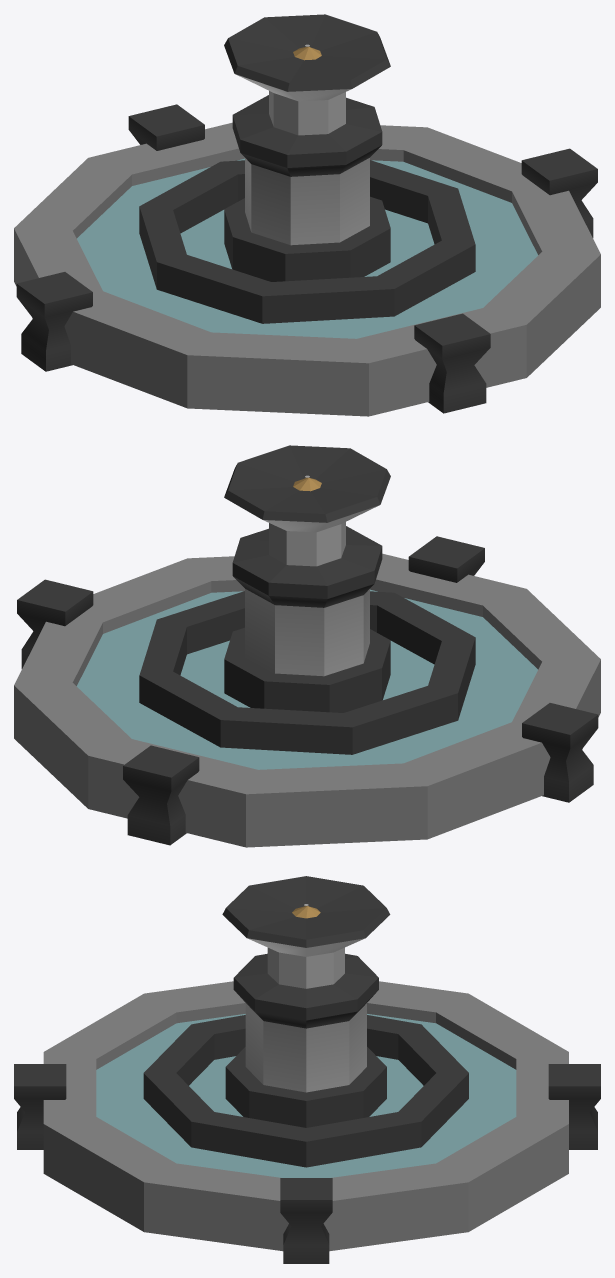
The model's file is funtain 1.fbx.
The picture shows the model from 3 angles, top to bottom: view 1: azimuth 30°, elevation 25°; view 2: azimuth 150°, elevation 25°; view 3: azimuth 270°, elevation 25°; orthographic projection. The views are drawn at different scales.
Parts seen in each view (by area): view 1: pPipe3; view 2: pPipe3; view 3: pPipe3.
Boxes of the visible parts, x1,y1,x2,y2 form: pPipe3: (14,14,600,416); pPipe3: (14,445,600,847); pPipe3: (14,876,600,1263).
Bounding box in the file's own units: 7.87 × 3.4 × 7.73.
